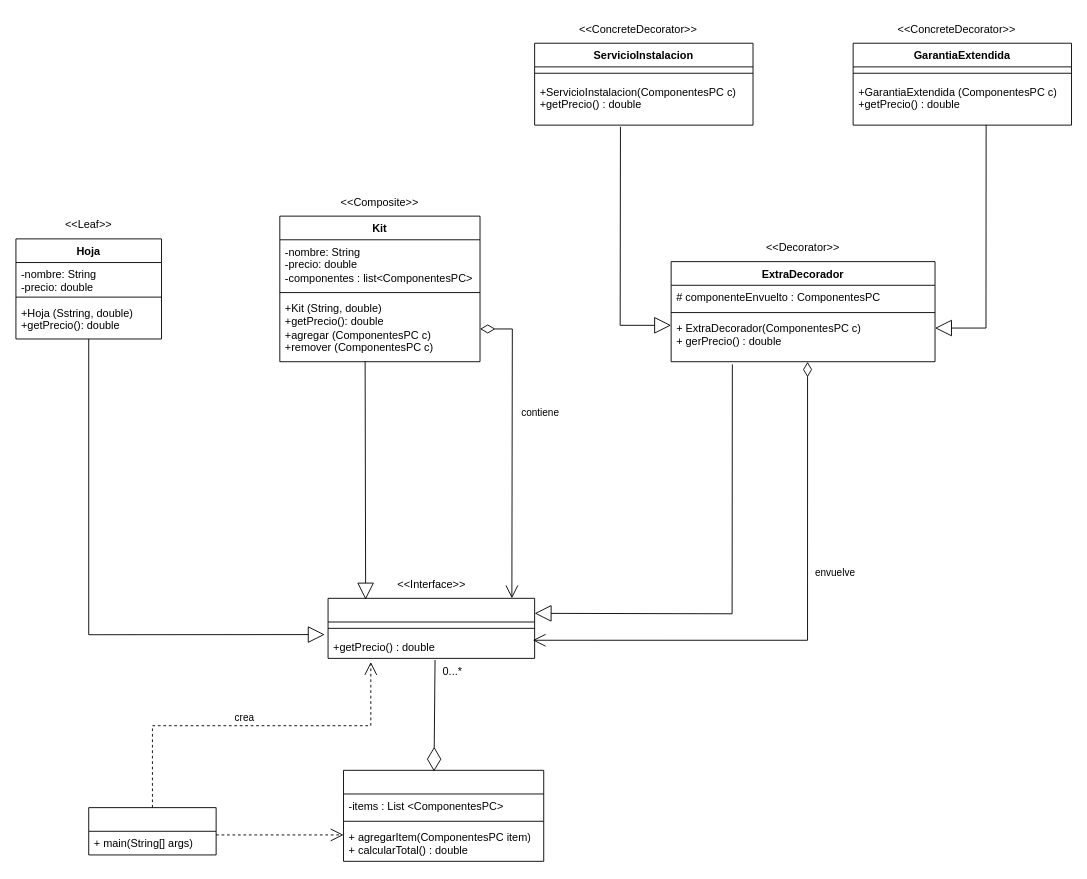
Image size: 1087x879. Some labels were removed from this diagram. The box of each missing label's shape, as (x1, y1, x2, y2) in pixels:
App: (88, 807, 216, 855)
CarritoCompras: (343, 769, 544, 861)
ComponentesPC: (327, 597, 535, 658)
